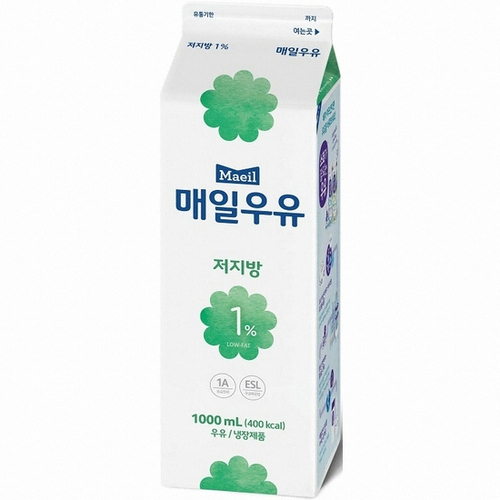milk: (157, 3, 340, 498)
